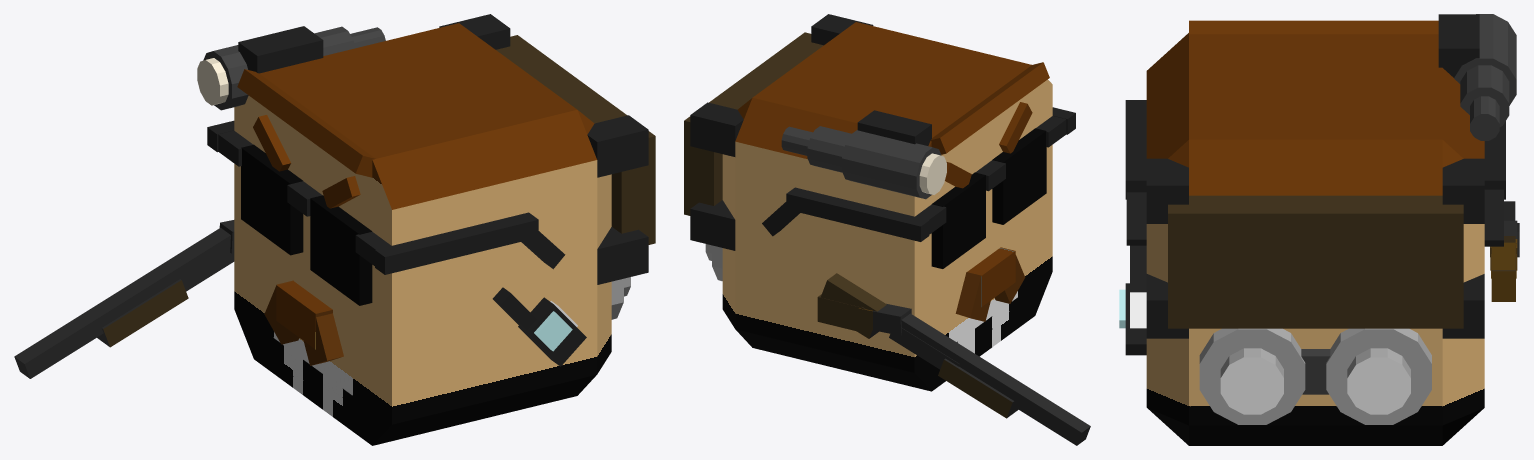
Rendered from playerReloadingshotgun.gltf.
3 views of the same model, side by side, from view 1: azimuth 30°, elevation 25°; view 2: azimuth 150°, elevation 25°; view 3: azimuth 270°, elevation 25° (orthographic). The views are drawn at different scales.
Parts seen in each view (by area): view 1: beveled_cuboid, cube (×2); view 2: beveled_cuboid, cube; view 3: beveled_cuboid, cube (×2).
Boxes of the visible parts, box(x1,y1,x2,y2) form: beveled_cuboid: box(197, 14, 655, 445); cube (×2): box(14, 220, 586, 378); beveled_cuboid: box(684, 14, 1075, 391); cube: box(817, 273, 1090, 445); beveled_cuboid: box(1119, 14, 1516, 445); cube (×2): box(1125, 201, 1519, 355).
Size of the model in its own units: 1.75 by 1.06 by 1.18.
5 materials, 4 textured.
